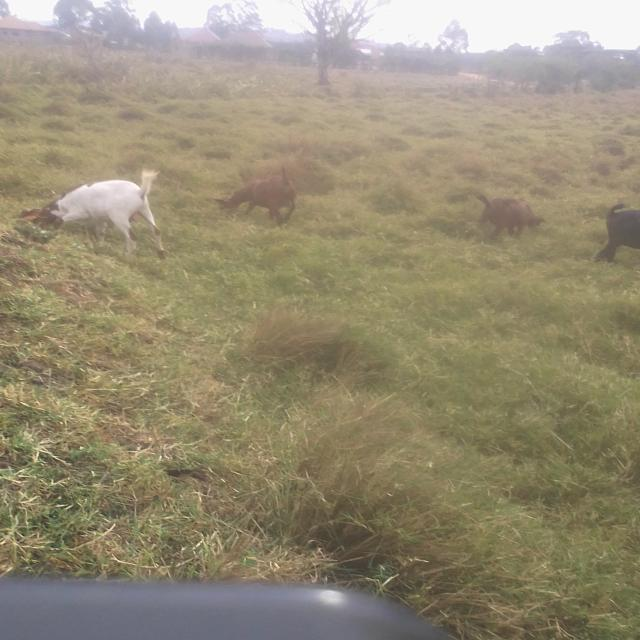goat: (5, 140, 211, 298)
